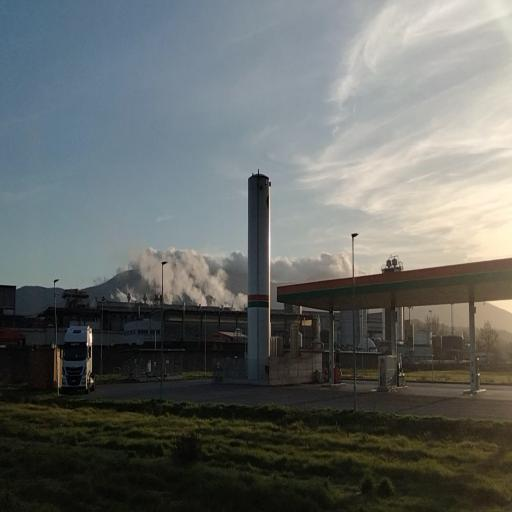leakage: (110, 235, 251, 315)
